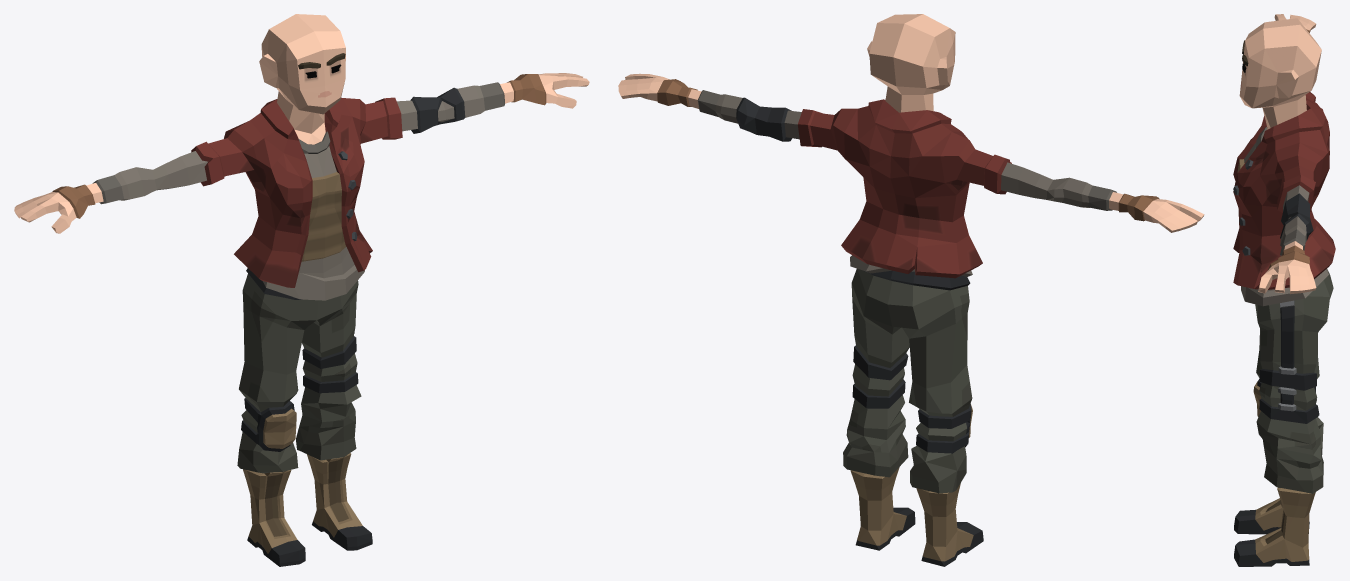
The model's file is SM_Chr_Insurgent_Female_02.fbx.
3 renders of one model, left to right at view 1: azimuth 30°, elevation 25°; view 2: azimuth 150°, elevation 25°; view 3: azimuth 270°, elevation 25°, orthographic.
Visible parts, largest first — view 1: SM_Chr_Insurgent_Female_02; view 2: SM_Chr_Insurgent_Female_02; view 3: SM_Chr_Insurgent_Female_02.
Part boxes in pixels (bbox=[...]): SM_Chr_Insurgent_Female_02: bbox=[14, 14, 589, 566]; SM_Chr_Insurgent_Female_02: bbox=[618, 14, 1204, 566]; SM_Chr_Insurgent_Female_02: bbox=[1233, 14, 1335, 566].
Size of the model in its own units: 204 by 179 by 32.
